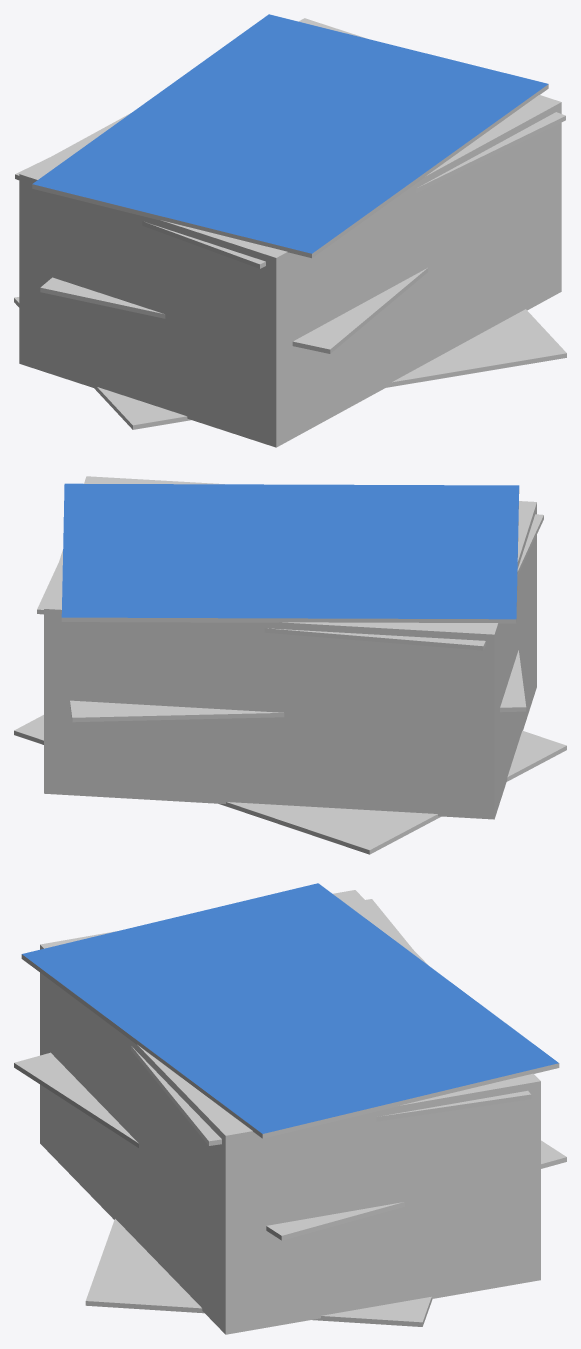
The model's file is papers.fbx.
3 renders of one model, top to bottom at view 1: azimuth 30°, elevation 25°; view 2: azimuth 150°, elevation 25°; view 3: azimuth 270°, elevation 25°, orthographic. The views are drawn at different scales.
Visible parts, largest first — view 1: papper; view 2: papper; view 3: papper.
Boxes of the visible parts, x1,y1,x2,y2 form: papper: [14, 14, 566, 447]; papper: [14, 476, 566, 854]; papper: [14, 883, 566, 1334].
Size of the model in its own units: 209 by 79.48 by 194.
